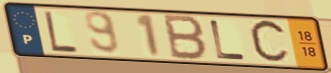1: (136, 13, 162, 60)
9: (85, 9, 123, 58)
B: (163, 13, 210, 62)
C: (247, 18, 293, 67)
L: (42, 9, 81, 55), (208, 18, 249, 61)
